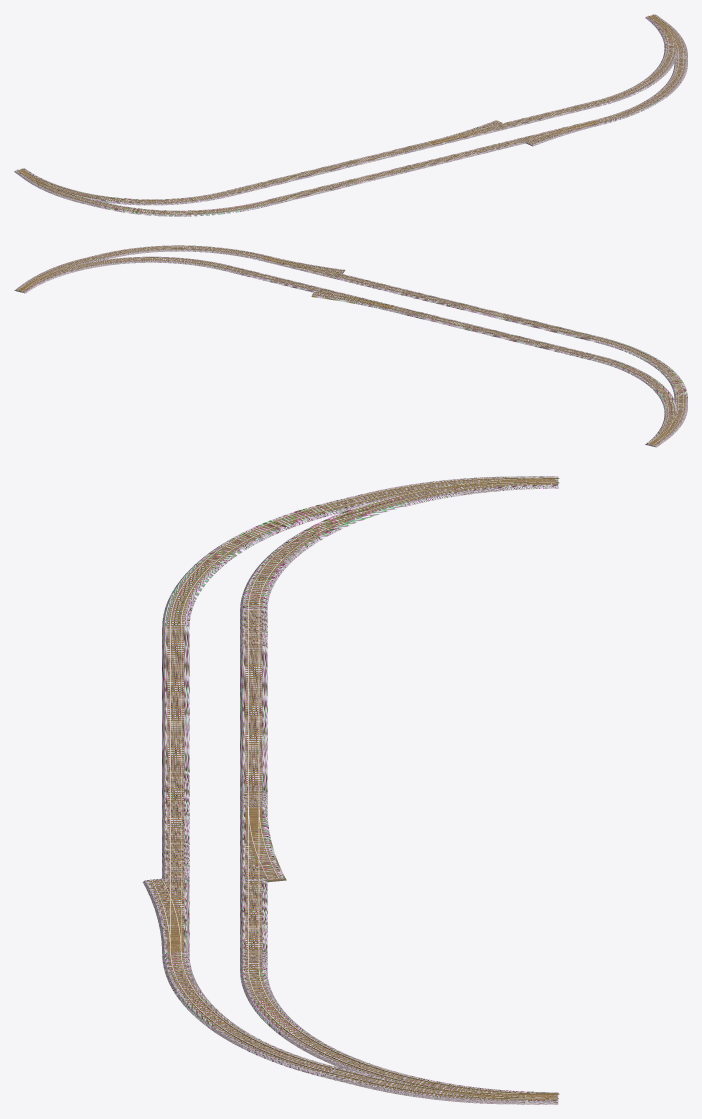
Rendered from GMLID_10415082_319158_1266.gltf.
3 views of the same model, one above another, from view 1: azimuth 30°, elevation 25°; view 2: azimuth 150°, elevation 25°; view 3: azimuth 270°, elevation 25° (orthographic). The views are drawn at different scales.
Visible parts, largest first — view 1: Z_UP; view 2: Z_UP; view 3: Z_UP.
Part boxes in pixels (x1,y1,x2,y2): Z_UP: [14, 14, 687, 216]; Z_UP: [14, 245, 687, 447]; Z_UP: [142, 476, 559, 1104].
Size of the model in its own units: 286 by 0.6173 by 80.21.
Materials: 5 (1 with a texture image).
